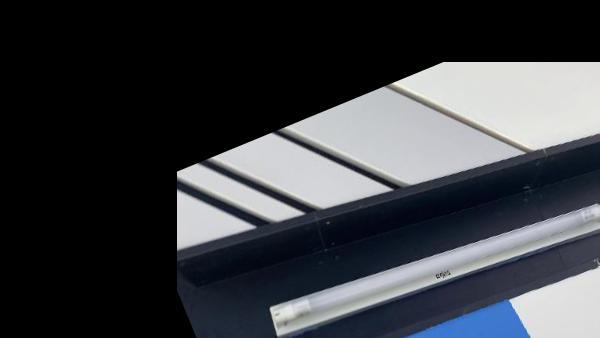light_off: (247, 156, 600, 338)
